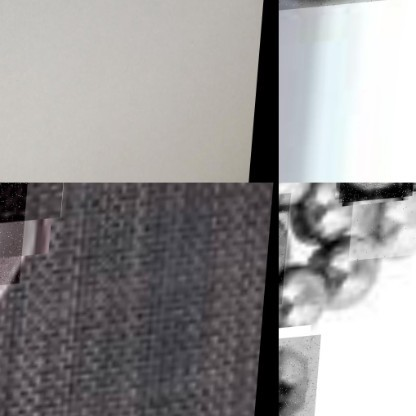ironball: (317, 223, 390, 328), (292, 182, 376, 249), (351, 185, 415, 263), (278, 336, 325, 415), (340, 182, 415, 205), (278, 193, 292, 309), (278, 182, 323, 217)
